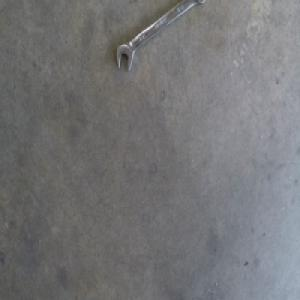Wrench: (116, 0, 199, 71)
